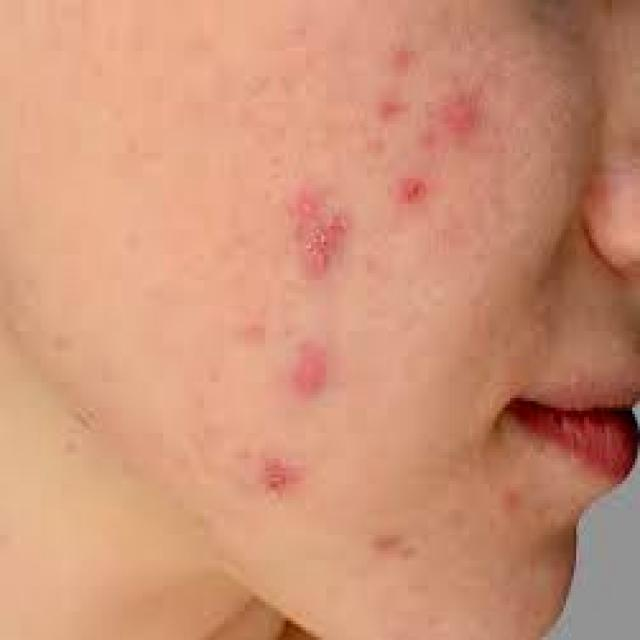Acne: (290, 181, 352, 275), (258, 444, 308, 504), (288, 336, 330, 401), (438, 91, 479, 138), (393, 169, 433, 207), (374, 94, 415, 124), (389, 36, 414, 74)
